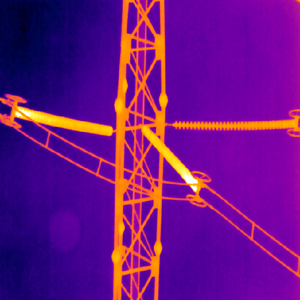insulator: (139, 123, 199, 193), (11, 103, 113, 136), (169, 117, 298, 130)
